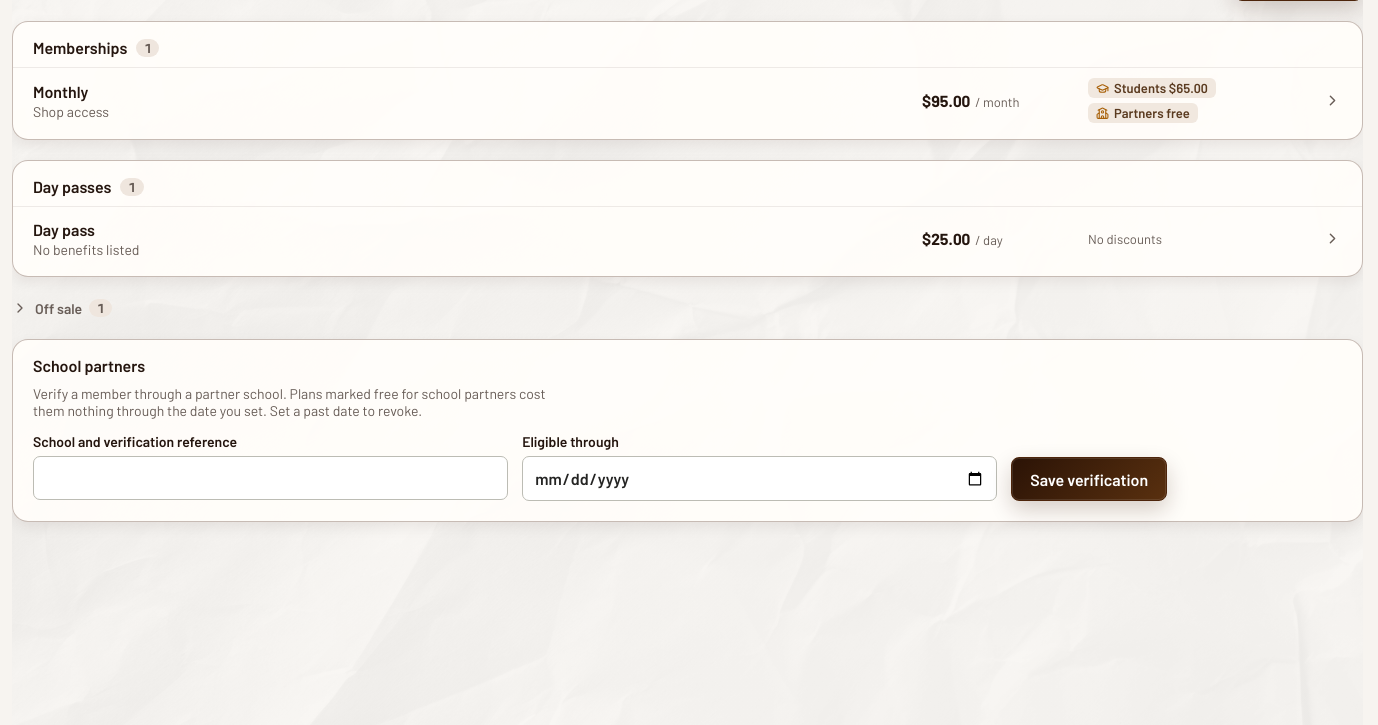
Scenario: saving without changes sends nothing
Click the button "Monthly" at (61, 91), box [33,82,88,100]
(page scrolled)
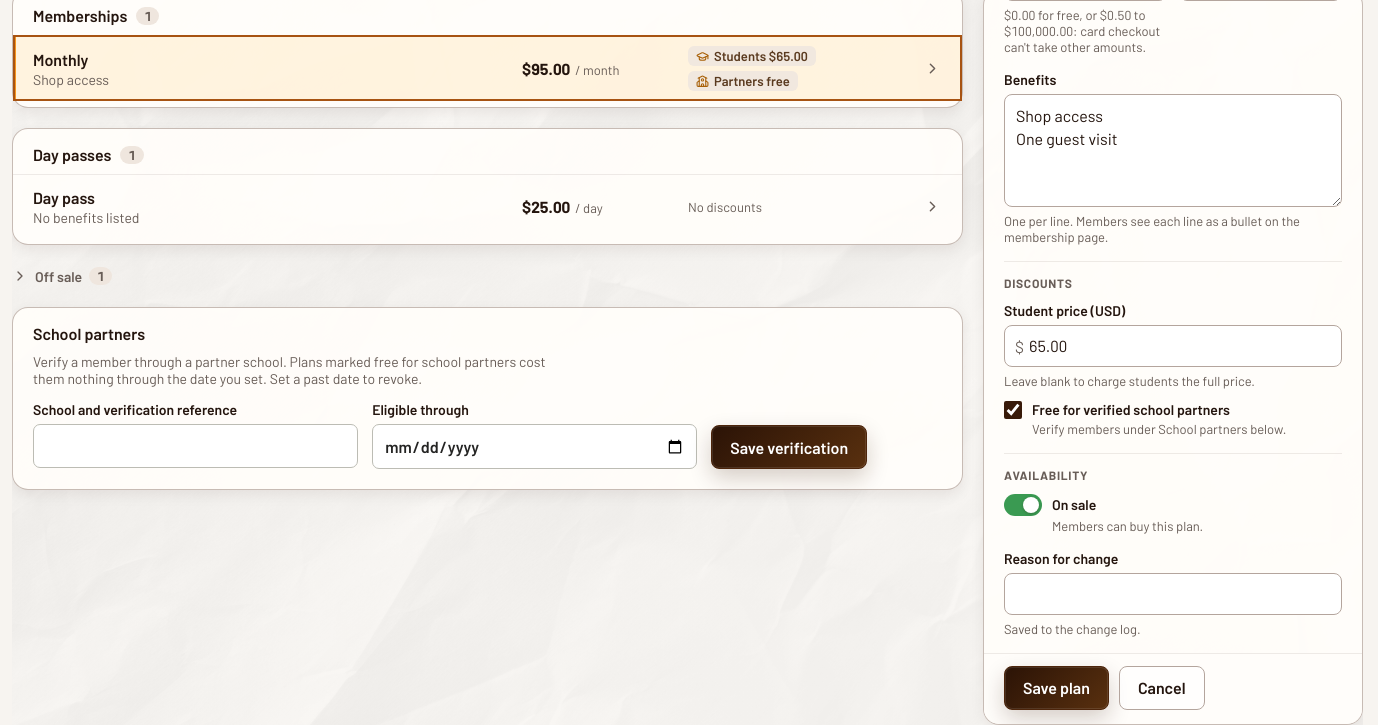
Type "No-op" into the field labelled "Reason for change" at (1173, 594), box [1004,573,1342,615]
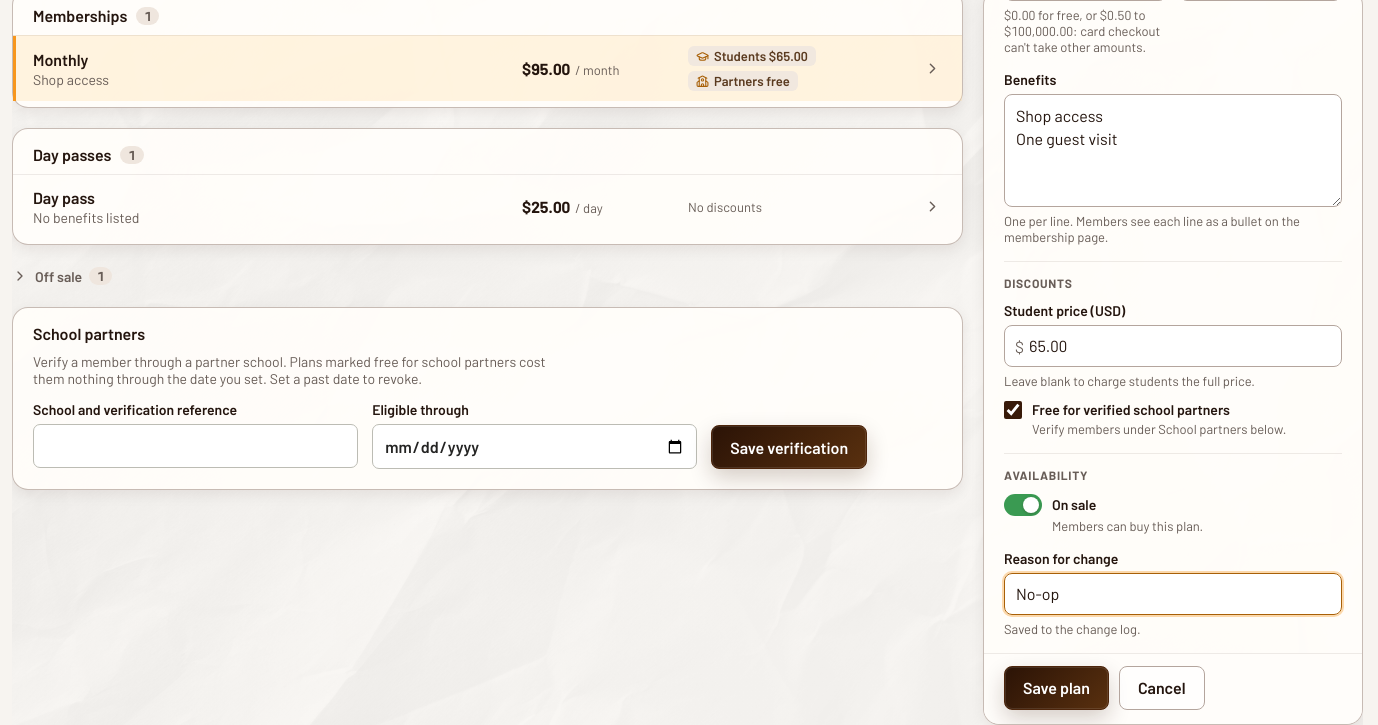
Click the button "Save plan" at (1056, 688), box [1004,666,1109,710]
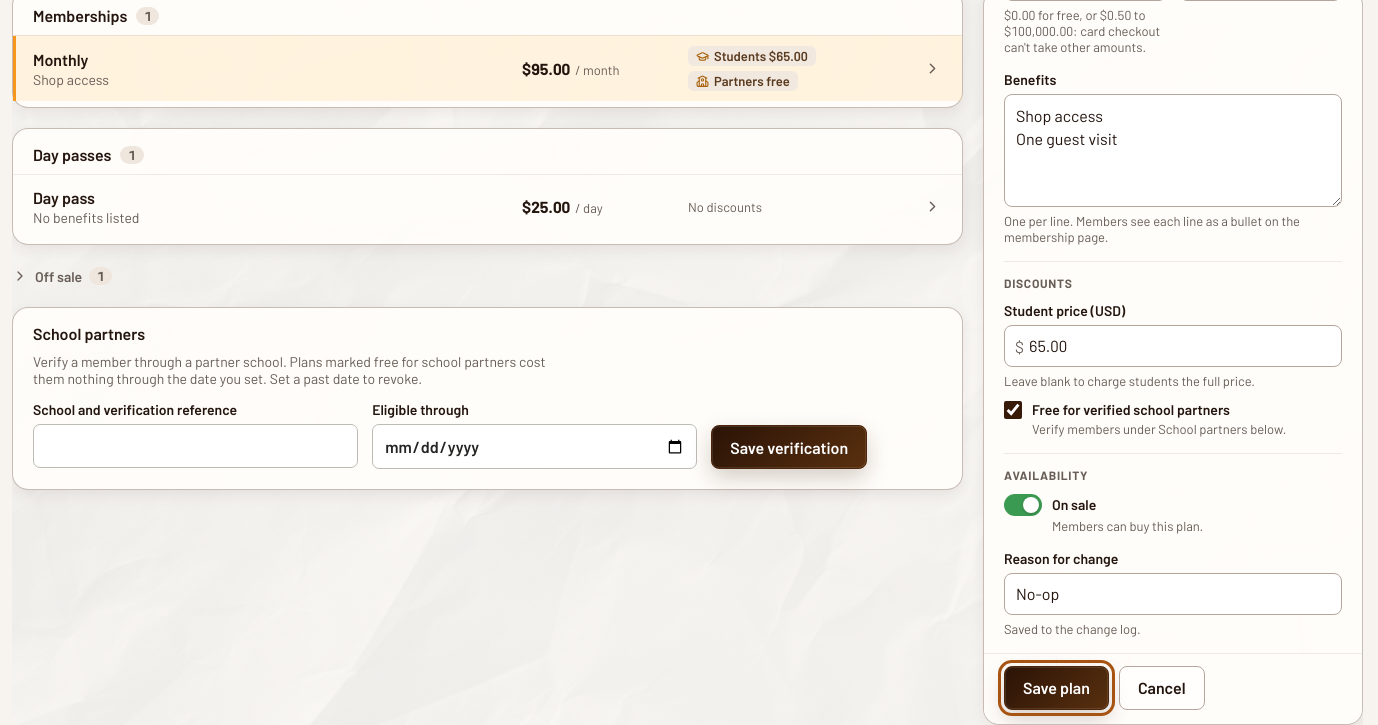
Check: the message reads "Nothing has changed.", box [1004,653,1135,670]
